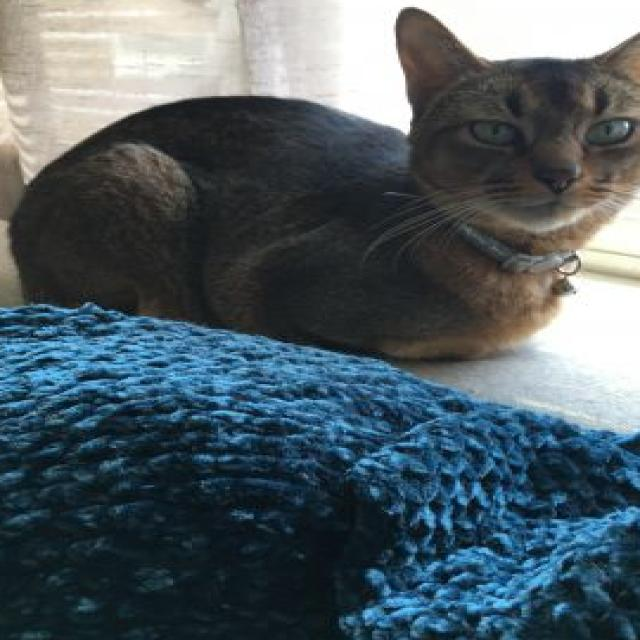Abyssinian: (2, 0, 639, 364)
